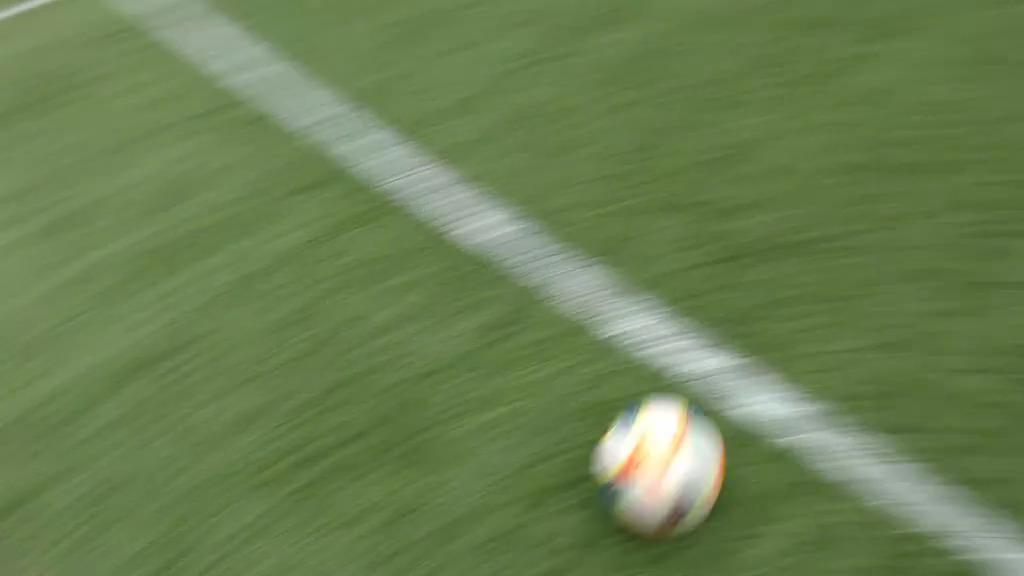ball: (570, 370, 757, 560)
